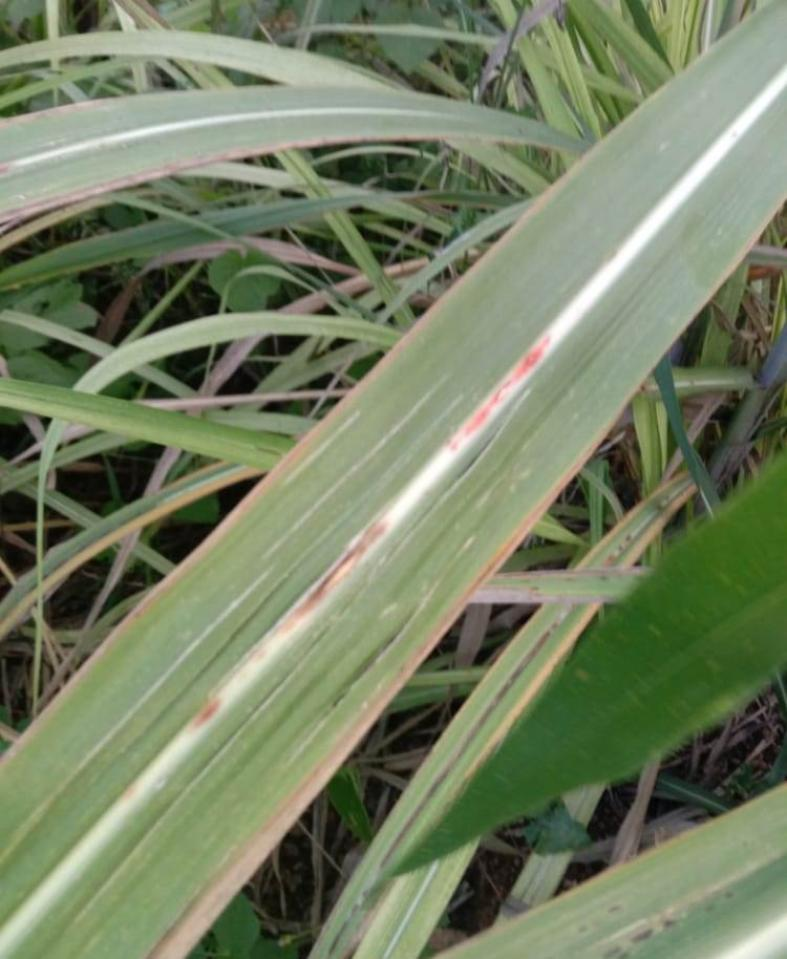RedRot: (189, 518, 395, 735), (445, 335, 555, 451)
